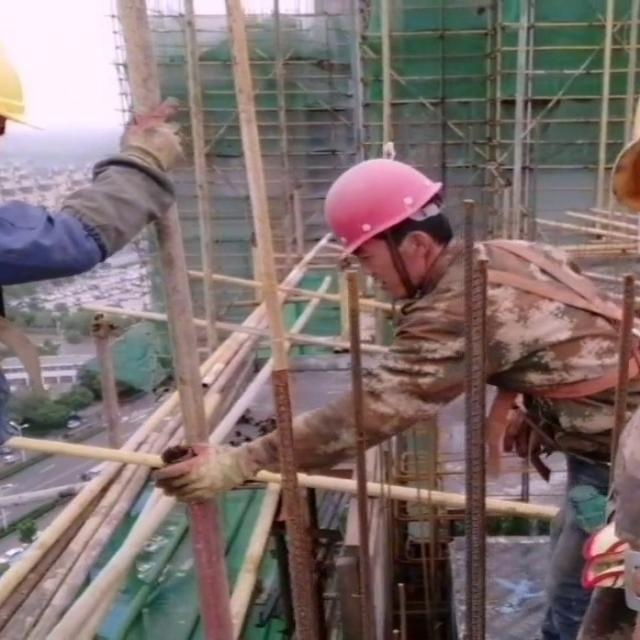Arnes_seguridad: (452, 228, 639, 407)
